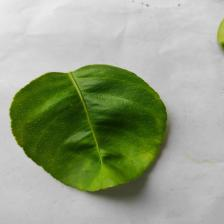greening: (6, 61, 169, 194)
